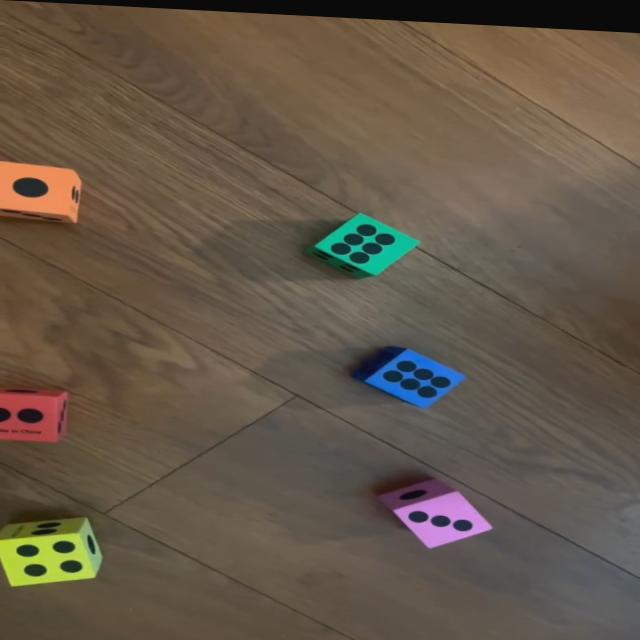blue_block: (349, 339, 471, 409)
red_block: (0, 389, 70, 443)
